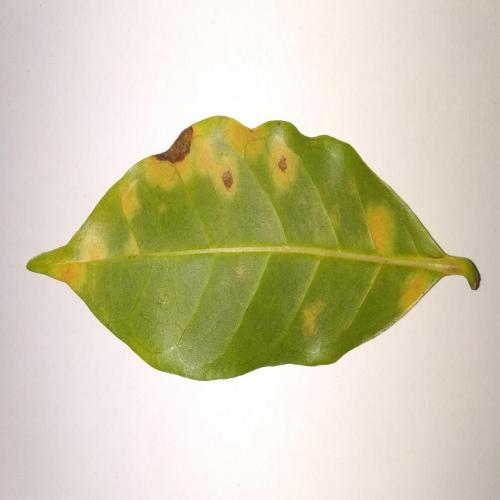phoma: (146, 117, 264, 196)
